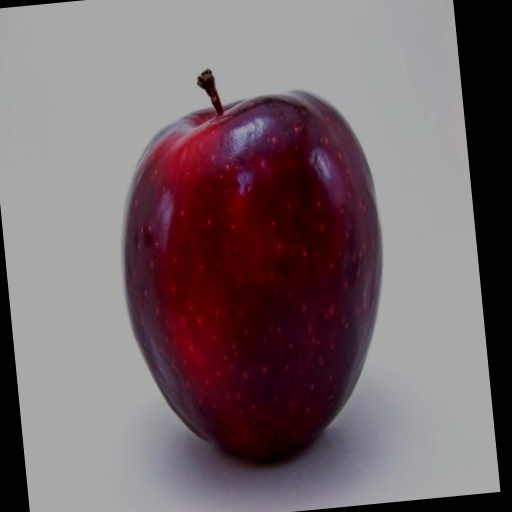fruit: (123, 71, 381, 459)
